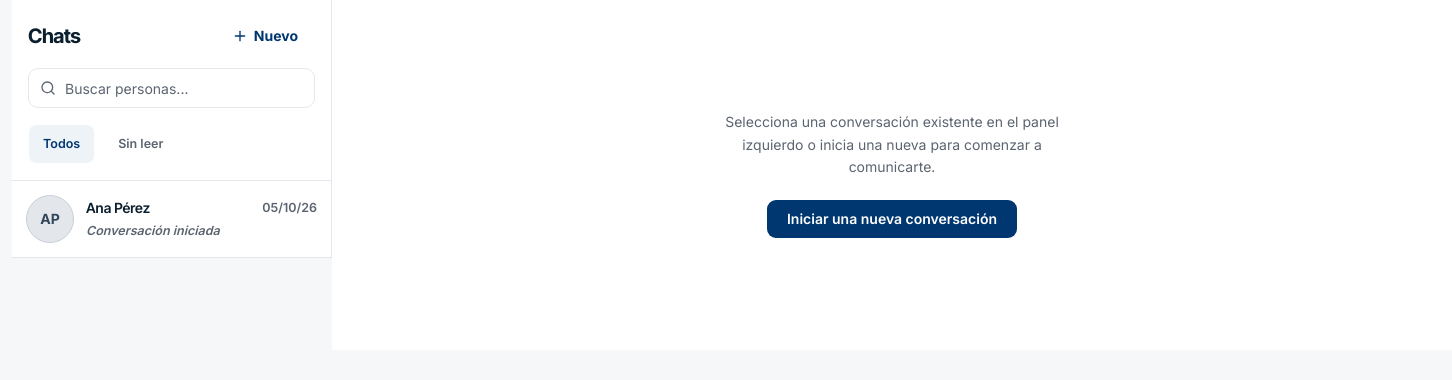
Test: Estados del chat › distingue carga y error del historial vacío y recupera la conversación al reintentar
What coordinates should you click on to do the following:
click the heading "Ana Pérez"
I would click on:
 (118, 208)
Its box is [86, 198, 150, 218].
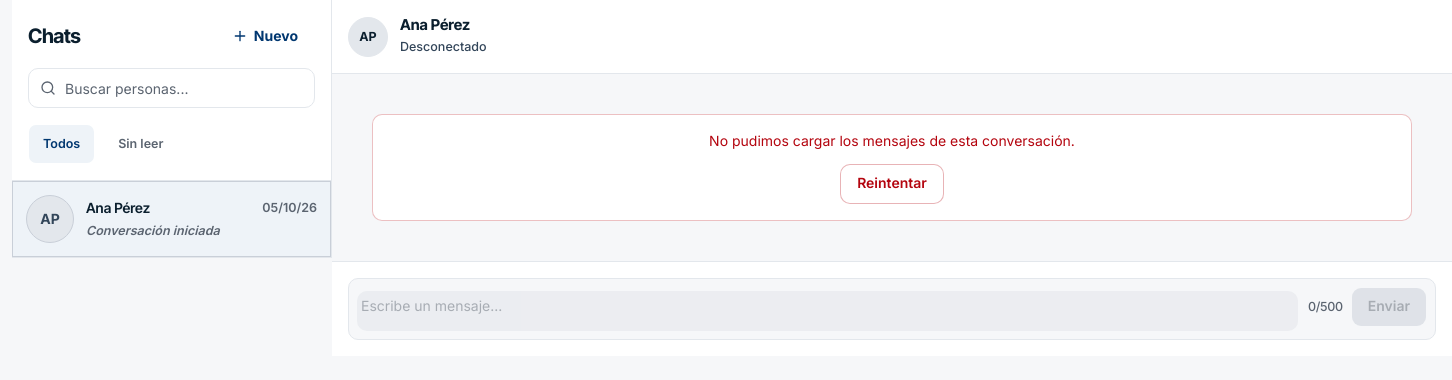
Expected: the text "Aún no hay mensajes" is not shown
Result: the message shows "No pudimos cargar los mensajes" at [709, 132, 1075, 149]
Result: the text box with test id "message-textarea" is disabled at [357, 290, 1298, 330]
What coordinates should you click on to do the following:
click the button "Reintentar"
I would click on:
 (892, 184)
Its box is [840, 164, 944, 204].
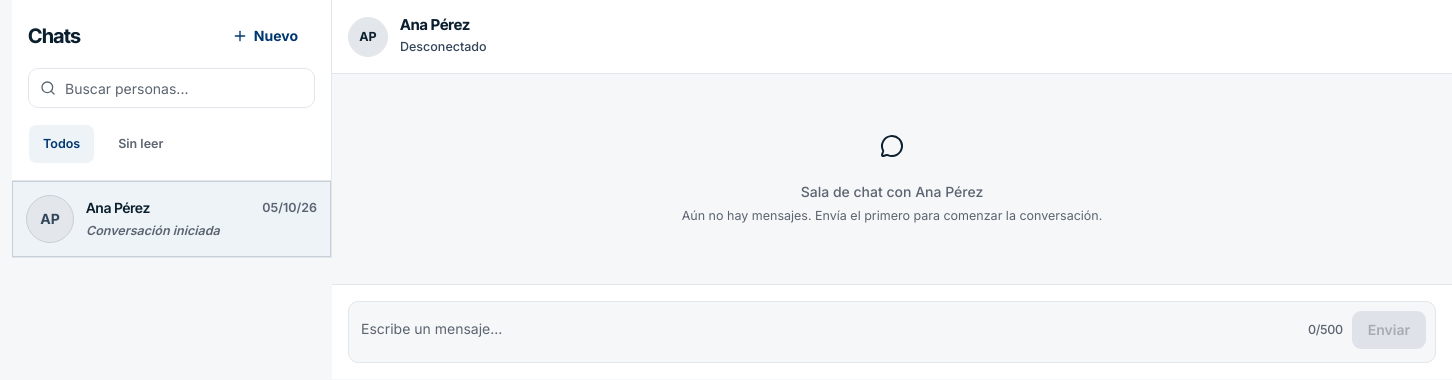
Result: the text "Aún no hay mensajes" is shown at [682, 208, 1102, 222]
Result: the text box with test id "message-textarea" is enabled at [357, 314, 1298, 354]
